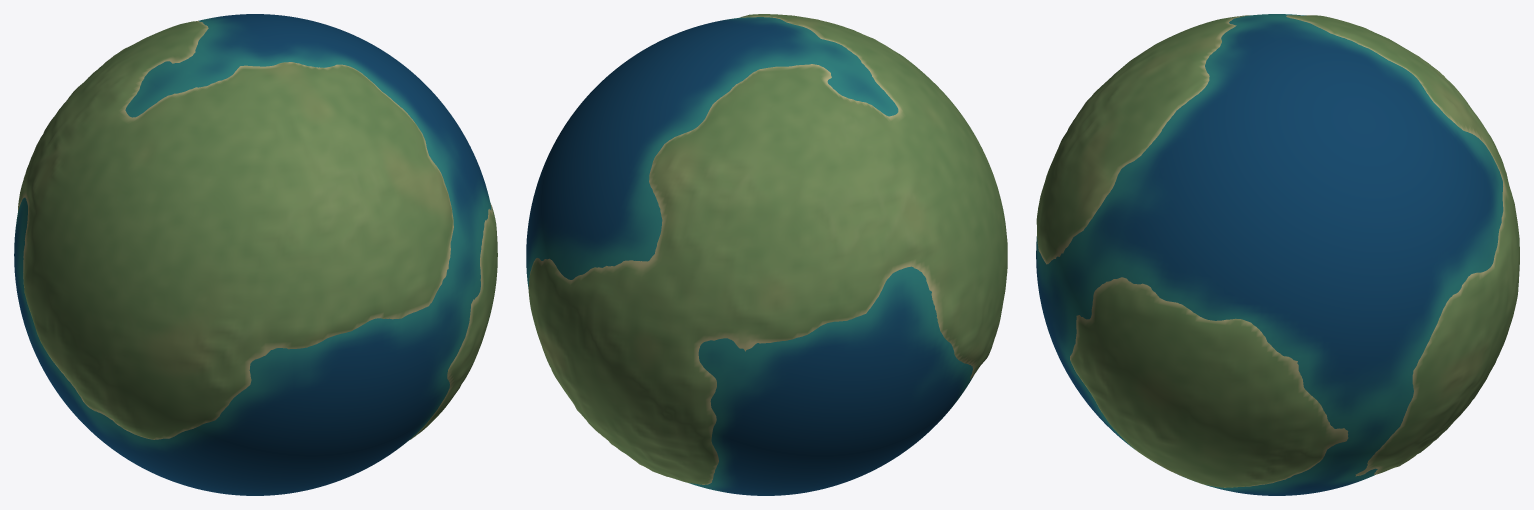
The model's file is planet-v0.4.glb.
3 renders of one model, left to right at view 1: azimuth 30°, elevation 25°; view 2: azimuth 150°, elevation 25°; view 3: azimuth 270°, elevation 25°, orthographic.
Visible parts, largest first — view 1: Land, Ocean; view 2: Land, Ocean; view 3: Ocean, Land.
Part boxes in pixels (box(x1,y1,x2,y2)): Land: box(18, 21, 497, 439); Ocean: box(14, 14, 491, 495); Land: box(528, 14, 1007, 484); Ocean: box(526, 17, 973, 495); Ocean: box(1036, 14, 1503, 495); Land: box(1036, 15, 1519, 487).
Size of the model in its own units: 2.02 by 2 by 2.01.
